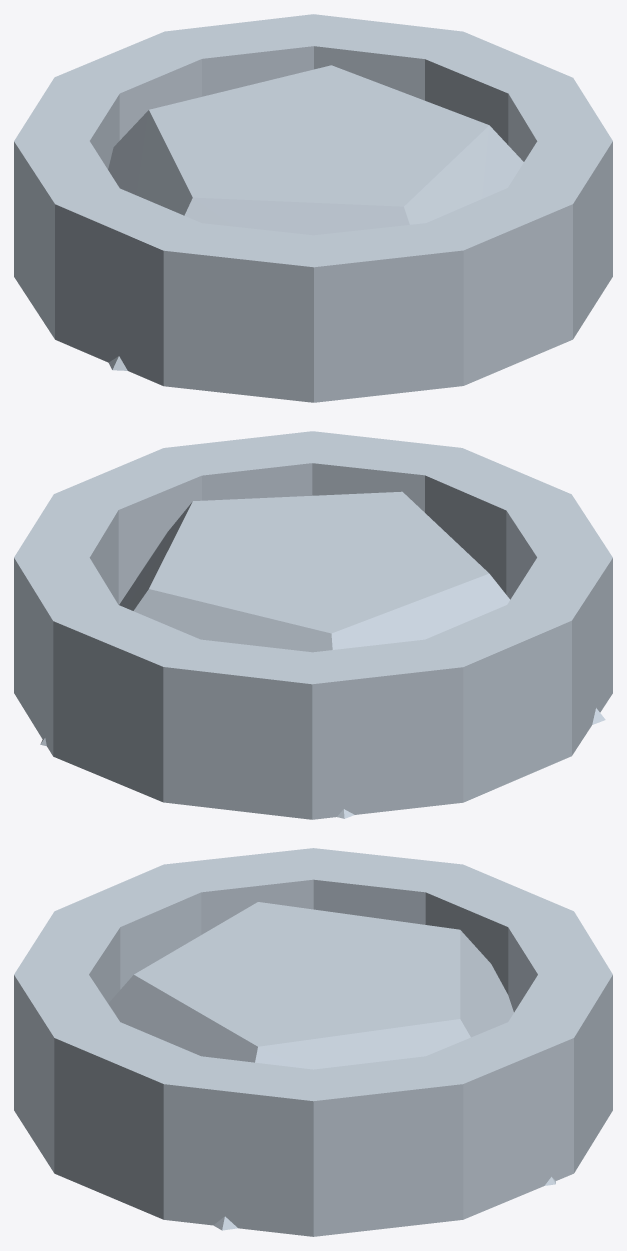
File: zirai.FBX
The picture shows the model from 3 angles, top to bottom: view 1: azimuth 30°, elevation 25°; view 2: azimuth 150°, elevation 25°; view 3: azimuth 270°, elevation 25°; orthographic projection.
Visible parts, largest first — view 1: VIFS001, VIFS002; view 2: VIFS001, VIFS002; view 3: VIFS001, VIFS002.
Boxes of the visible parts, bbox=[...] form: VIFS001: bbox=[14, 14, 612, 402]; VIFS002: bbox=[108, 65, 523, 370]; VIFS001: bbox=[14, 431, 612, 819]; VIFS002: bbox=[40, 491, 605, 818]; VIFS001: bbox=[14, 848, 612, 1236]; VIFS002: bbox=[108, 902, 555, 1230].
Size of the model in its own units: 2 by 0.5 by 2.
